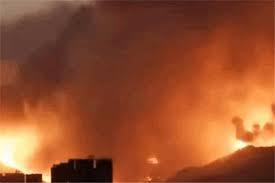fire: (227, 102, 274, 154), (0, 127, 40, 175)
